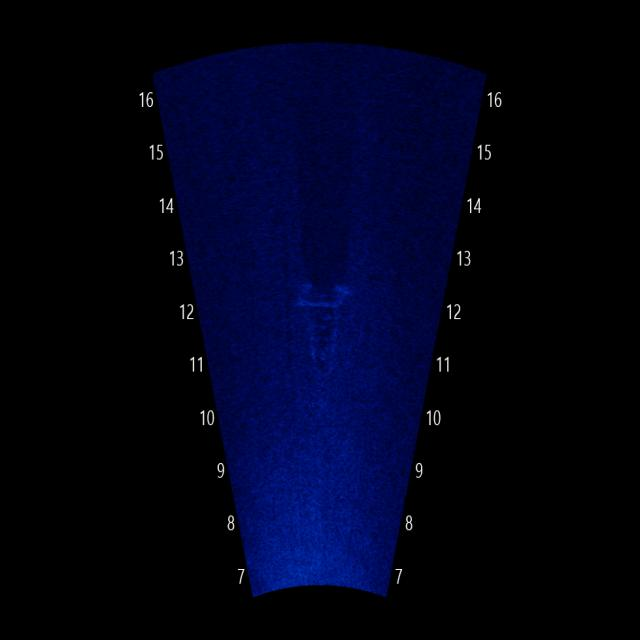triangle: (288, 258, 350, 436)
